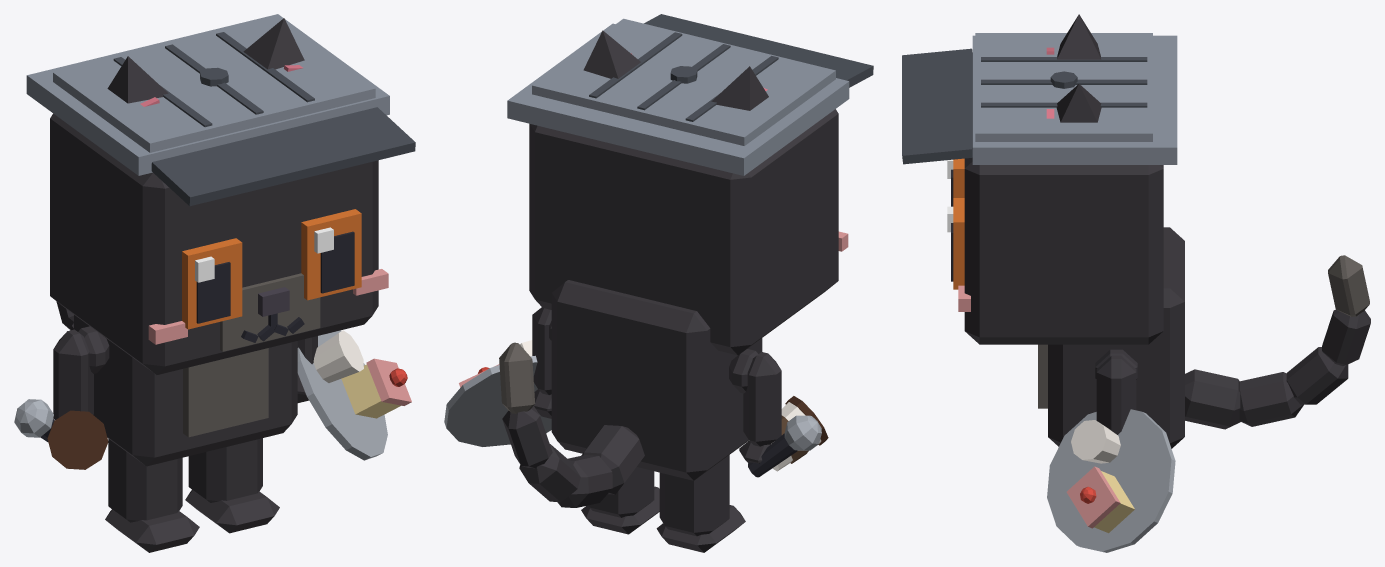
File: CatCafe_Cat_Soot_Work.glb
The picture shows the model from 3 angles, left to right: view 1: azimuth 30°, elevation 25°; view 2: azimuth 150°, elevation 25°; view 3: azimuth 270°, elevation 25°; orthographic projection. The views are drawn at different scales.
Visible parts, largest first — view 1: CatCafe_Cat_Soot_Work_Head, CatCafe_Cat_Soot_Work_Prop, CatCafe_Cat_Soot_Work_Body, CatCafe_Cat_Soot_Work_Held_Waiter, CatCafe_Cat_Soot_Work_LegB2, CatCafe_Cat_Soot_Work_LegB1, CatCafe_Cat_Soot_Work_Eye2, CatCafe_Cat_Soot_Work_Eye1, CatCafe_Cat_Soot_Work_LegF2, CatCafe_Cat_Soot_Work_Held_Barista, CatCafe_Cat_Soot_Work_EarL, CatCafe_Cat_Soot_Work_EarR (+2 smaller); view 2: CatCafe_Cat_Soot_Work_Head, CatCafe_Cat_Soot_Work_Prop, CatCafe_Cat_Soot_Work_Body, CatCafe_Cat_Soot_Work_Tail, CatCafe_Cat_Soot_Work_LegB2, CatCafe_Cat_Soot_Work_Held_Waiter, CatCafe_Cat_Soot_Work_LegF2, CatCafe_Cat_Soot_Work_LegB1, CatCafe_Cat_Soot_Work_Held_Entertainer, CatCafe_Cat_Soot_Work_LegF1, CatCafe_Cat_Soot_Work_EarL, CatCafe_Cat_Soot_Work_EarR (+1 smaller); view 3: CatCafe_Cat_Soot_Work_Head, CatCafe_Cat_Soot_Work_Prop, CatCafe_Cat_Soot_Work_Held_Waiter, CatCafe_Cat_Soot_Work_Body, CatCafe_Cat_Soot_Work_Tail, CatCafe_Cat_Soot_Work_LegF1, CatCafe_Cat_Soot_Work_EarL, CatCafe_Cat_Soot_Work_Eye1, CatCafe_Cat_Soot_Work_EarR, CatCafe_Cat_Soot_Work_Eye2.
Part boxes in pixels (x1,y1,x2,y2): CatCafe_Cat_Soot_Work_Head: (50,113,388,374); CatCafe_Cat_Soot_Work_Prop: (26,14,415,206); CatCafe_Cat_Soot_Work_Body: (74,315,297,466); CatCafe_Cat_Soot_Work_Held_Waiter: (297,330,411,460); CatCafe_Cat_Soot_Work_LegB2: (105,439,199,552); CatCafe_Cat_Soot_Work_LegB1: (185,438,279,533); CatCafe_Cat_Soot_Work_Eye2: (182,238,242,329); CatCafe_Cat_Soot_Work_Eye1: (301,209,361,300); CatCafe_Cat_Soot_Work_LegF2: (53,329,93,419); CatCafe_Cat_Soot_Work_Held_Barista: (47,410,108,469); CatCafe_Cat_Soot_Work_EarL: (243,18,304,71); CatCafe_Cat_Soot_Work_EarR: (107,56,168,106); CatCafe_Cat_Soot_Work_Head: (529,109,848,355); CatCafe_Cat_Soot_Work_Prop: (507,14,873,175); CatCafe_Cat_Soot_Work_Body: (549,280,762,480); CatCafe_Cat_Soot_Work_Tail: (499,342,644,507); CatCafe_Cat_Soot_Work_LegB2: (656,455,745,552); CatCafe_Cat_Soot_Work_Held_Waiter: (444,340,551,446); CatCafe_Cat_Soot_Work_LegF2: (739,352,781,463); CatCafe_Cat_Soot_Work_LegB1: (581,467,659,534); CatCafe_Cat_Soot_Work_Held_Entertainer: (748,415,821,477); CatCafe_Cat_Soot_Work_LegF1: (532,307,551,418); CatCafe_Cat_Soot_Work_EarL: (583,30,640,78); CatCafe_Cat_Soot_Work_EarR: (711,66,768,110); CatCafe_Cat_Soot_Work_Head: (958,157,1163,344); CatCafe_Cat_Soot_Work_Prop: (902,33,1177,164); CatCafe_Cat_Soot_Work_Held_Waiter: (1047,409,1175,552); CatCafe_Cat_Soot_Work_Body: (1038,227,1184,448); CatCafe_Cat_Soot_Work_Tail: (1185,255,1370,429); CatCafe_Cat_Soot_Work_LegF1: (1096,355,1136,434); CatCafe_Cat_Soot_Work_EarL: (1046,84,1101,122); CatCafe_Cat_Soot_Work_Eye1: (947,198,964,289); CatCafe_Cat_Soot_Work_EarR: (1046,14,1101,59); CatCafe_Cat_Soot_Work_Eye2: (947,158,964,206).
Bounding box in the file's own units: 1.53 × 1.93 × 1.79.
1 material, 1 textured.
